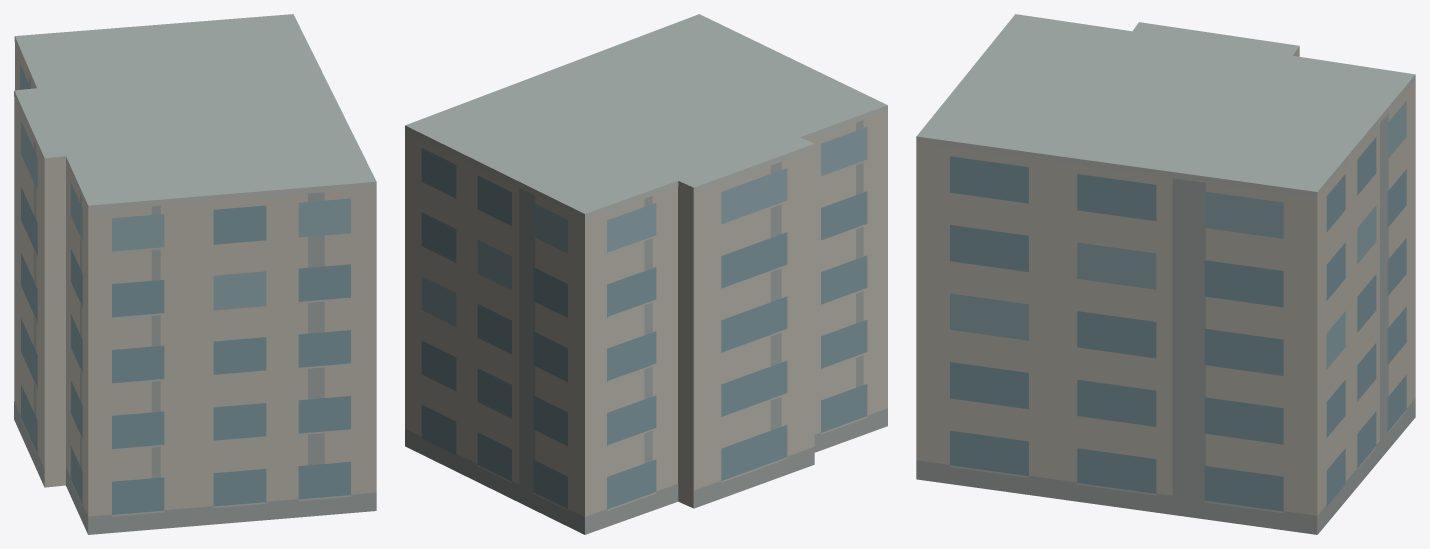
File: survey-upis-32888512.glb
3 renders of one model, left to right at view 1: azimuth 30°, elevation 25°; view 2: azimuth 150°, elevation 25°; view 3: azimuth 270°, elevation 25°, orthographic. The views are drawn at different scales.
Visible parts, largest first — view 1: survey-upis-32888512.tmp; view 2: survey-upis-32888512.tmp; view 3: survey-upis-32888512.tmp.
Boxes of the visible parts, <box> form: survey-upis-32888512.tmp: <box>14,14,376,534</box>; survey-upis-32888512.tmp: <box>405,14,887,534</box>; survey-upis-32888512.tmp: <box>916,14,1415,534</box>.
Bounding box in the file's own units: 14.6 × 13.1 × 17.29.
